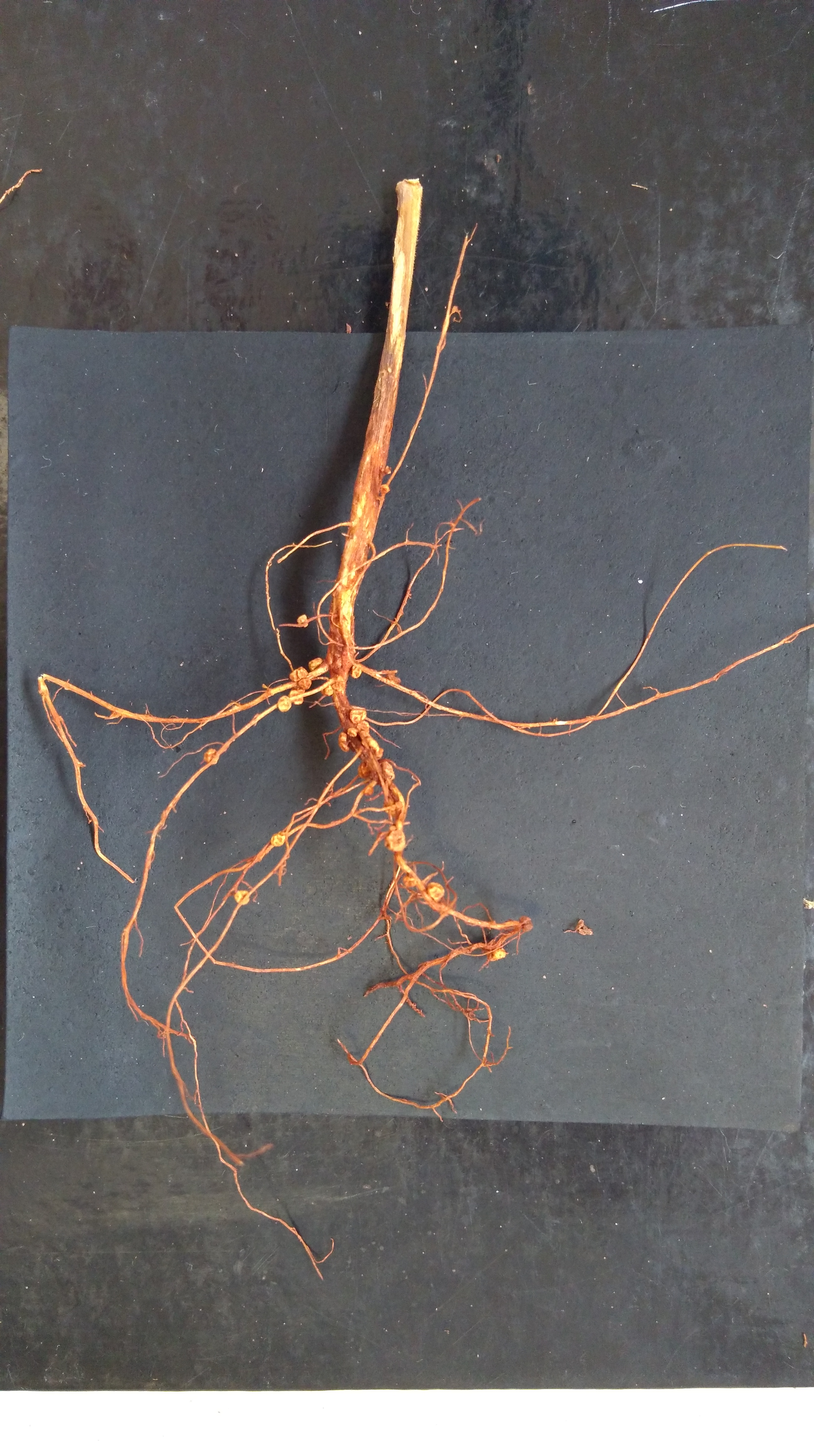nodule: (382, 783, 407, 814), (383, 828, 408, 855), (426, 881, 447, 904), (359, 730, 380, 752), (380, 760, 396, 783), (288, 665, 309, 682), (348, 707, 368, 724), (276, 695, 294, 713), (288, 687, 305, 706), (233, 889, 251, 906), (337, 730, 350, 753), (356, 761, 371, 780), (488, 948, 508, 962), (307, 656, 324, 671), (349, 663, 364, 680), (270, 833, 287, 848), (401, 875, 419, 889), (203, 748, 218, 763), (296, 677, 312, 690), (356, 720, 370, 734), (296, 613, 309, 628), (321, 685, 335, 697), (379, 483, 391, 495), (346, 727, 358, 738)
